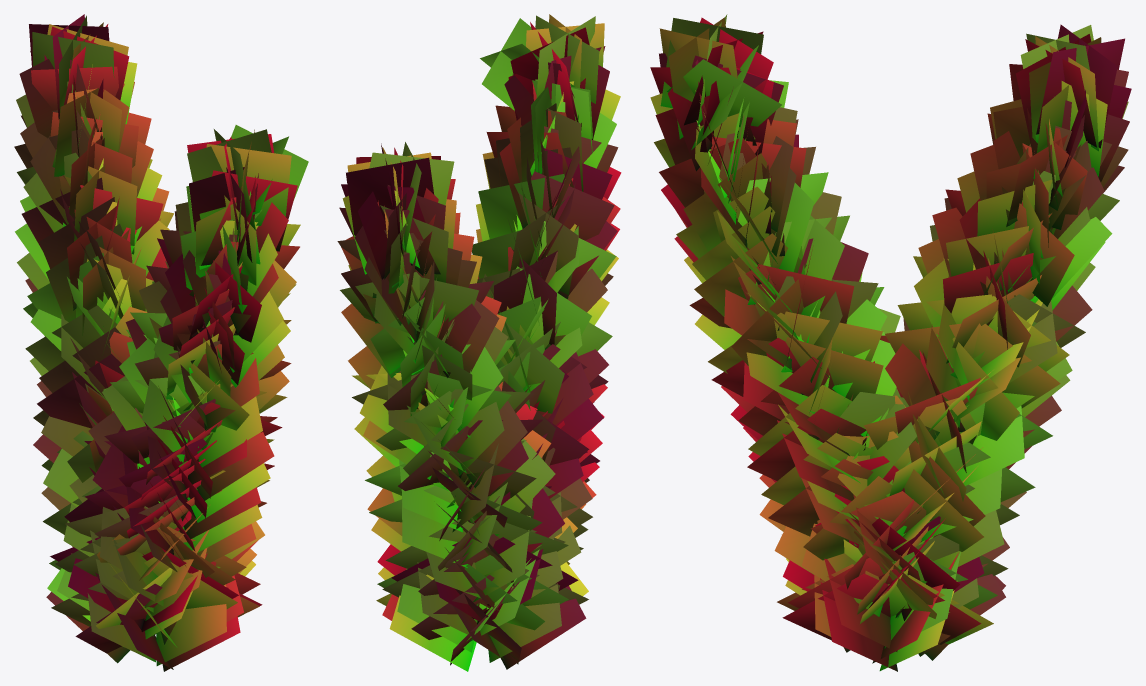
File: URP_P4_Tree_10_LOD_1.fbx
The picture shows the model from 3 angles, left to right: view 1: azimuth 30°, elevation 25°; view 2: azimuth 150°, elevation 25°; view 3: azimuth 270°, elevation 25°; orthographic projection. The views are drawn at different scales.
Visible parts, largest first — view 1: Tree_10_LOD_1; view 2: Tree_10_LOD_1; view 3: Tree_10_LOD_1.
Boxes of the visible parts, <box> form: Tree_10_LOD_1: <box>14,14,308,671</box>; Tree_10_LOD_1: <box>337,14,621,671</box>; Tree_10_LOD_1: <box>650,14,1131,671</box>.
Size of the model in its own units: 211 by 636 by 440.
